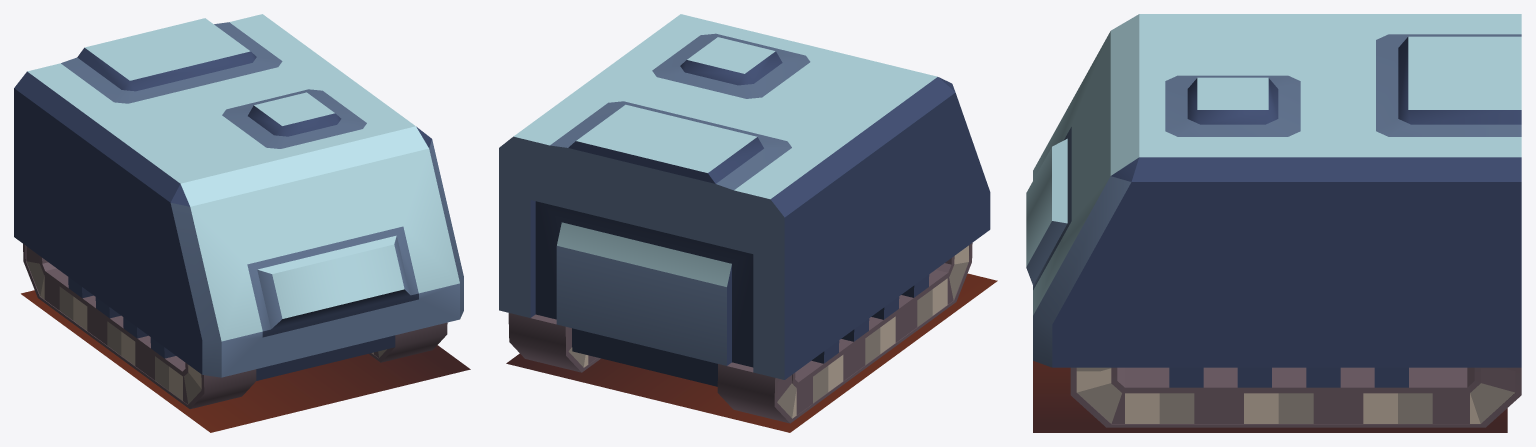
Rendered from APCMesh.SilverClaw.glb.
The picture shows the model from 3 angles, left to right: view 1: azimuth 30°, elevation 25°; view 2: azimuth 150°, elevation 25°; view 3: azimuth 270°, elevation 25°; orthographic projection. The views are drawn at different scales.
Visible parts, largest first — view 1: APCMesh.SilverClaw; view 2: APCMesh.SilverClaw; view 3: APCMesh.SilverClaw.
Boxes of the visible parts, box(x1,y1,x2,y2) form: APCMesh.SilverClaw: box(14, 14, 470, 432); APCMesh.SilverClaw: box(499, 14, 997, 432); APCMesh.SilverClaw: box(1026, 14, 1521, 432).
Bounding box in the file's own units: 1.51 × 1.25 × 1.98.
1 material, 1 textured.
